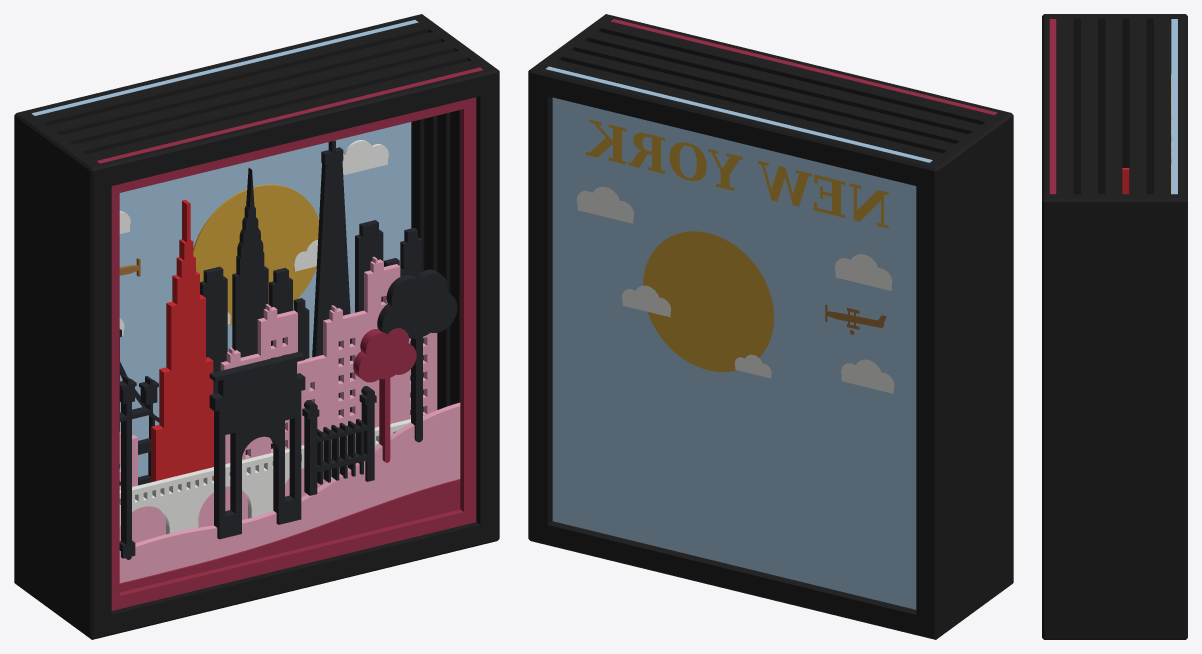
Rendered from nyc_shadow_box.glb.
3 views of the same model, side by side, from view 1: azimuth 30°, elevation 25°; view 2: azimuth 150°, elevation 25°; view 3: azimuth 270°, elevation 25° (orthographic). The views are drawn at different scales.
Visible parts, largest first — view 1: nyc_shadow_box (×9); view 2: nyc_shadow_box (×5); view 3: nyc_shadow_box (×3).
Boxes of the visible parts, x1=… form: nyc_shadow_box (×9): x1=14, y1=14, x2=499, y2=639; nyc_shadow_box (×5): x1=528, y1=14, x2=1013, y2=639; nyc_shadow_box (×3): x1=1042, y1=14, x2=1187, y2=639.
Size of the model in its own units: 0.2 by 0.22 by 0.066.
